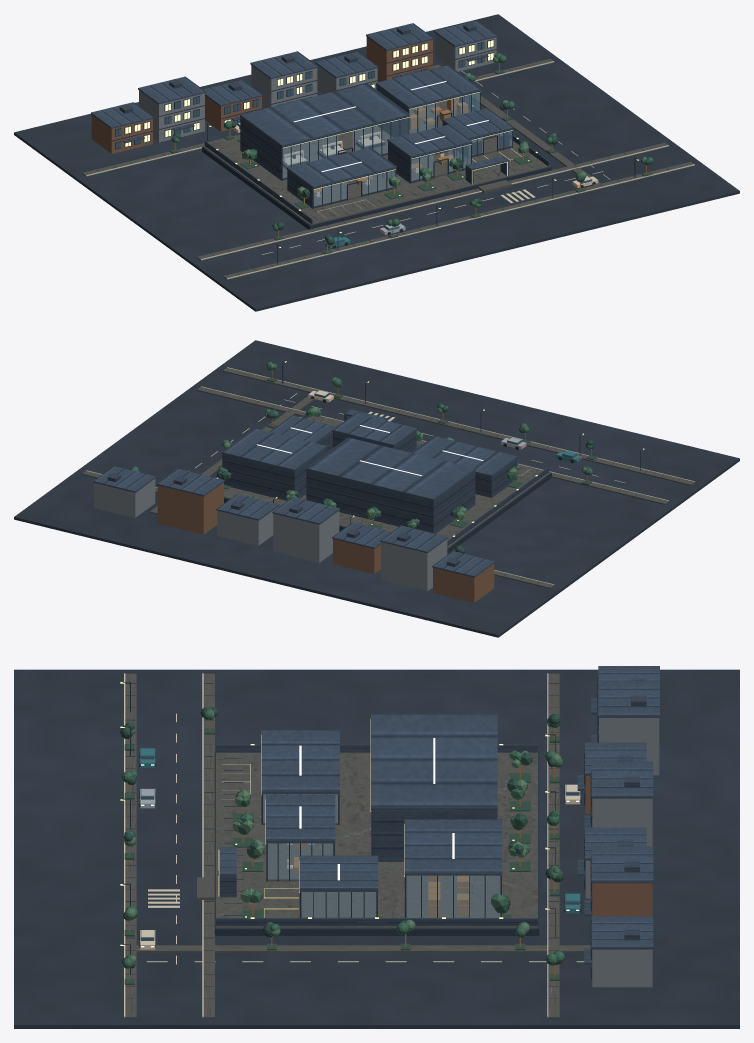
Rendered from oficina.glb.
The picture shows the model from 3 angles, top to bottom: view 1: azimuth 30°, elevation 25°; view 2: azimuth 150°, elevation 25°; view 3: azimuth 270°, elevation 25°; orthographic projection. The views are drawn at different scales.
Visible parts, largest first — view 1: Asfalto, Cobertura, Concreto, Alumínio grafite, Aço azul, Vidro fumê, Alvenaria cinza, Tijolo urbano, Superfície clara, Janelas acesas, Carvalho, Jardim (+5 smaller); view 2: Asfalto, Cobertura, Aço azul, Alvenaria cinza, Concreto, Tijolo urbano, Superfície clara, Alumínio grafite, Folhagem 1, Folhagem 0, Folhagem 2, Jardim; view 3: Asfalto, Cobertura, Concreto, Aço azul, Vidro fumê, Alvenaria cinza, Alumínio grafite, Superfície clara, Jardim, Tijolo urbano, Folhagem 1, Folhagem 0 (+2 smaller).
Part boxes in pixels (x1,y1,x2,y2): Asfalto: [14, 14, 739, 311]; Cobertura: [91, 20, 513, 188]; Concreto: [82, 59, 694, 279]; Alumínio grafite: [97, 39, 668, 274]; Aço azul: [119, 23, 549, 224]; Vidro fumê: [283, 92, 511, 206]; Alvenaria cinza: [139, 33, 496, 142]; Tijolo urbano: [91, 37, 432, 153]; Superfície clara: [86, 61, 694, 279]; Janelas acesas: [125, 40, 493, 146]; Carvalho: [174, 63, 646, 251]; Jardim: [169, 69, 651, 254]; Asfalto: [14, 340, 739, 637]; Cobertura: [93, 409, 517, 577]; Aço azul: [107, 413, 549, 566]; Alvenaria cinza: [94, 479, 447, 591]; Concreto: [82, 368, 694, 588]; Tijolo urbano: [157, 482, 494, 602]; Superfície clara: [86, 367, 694, 584]; Alumínio grafite: [155, 361, 680, 583]; Folhagem 1: [130, 361, 592, 552]; Folhagem 0: [216, 363, 594, 553]; Folhagem 2: [137, 363, 592, 527]; Jardim: [224, 377, 596, 528]; Asfalto: [14, 669, 739, 1028]; Cobertura: [219, 666, 659, 949]; Concreto: [124, 673, 590, 1018]; Aço azul: [216, 679, 646, 964]; Vidro fumê: [263, 794, 500, 917]; Alvenaria cinza: [585, 718, 659, 987]; Alumínio grafite: [122, 673, 599, 998]; Superfície clara: [124, 673, 584, 1017]; Jardim: [124, 728, 559, 984]; Tijolo urbano: [585, 776, 652, 916]; Folhagem 1: [121, 707, 564, 968]; Folhagem 0: [120, 707, 563, 968].
Bounding box in the file's own units: 88 × 7.97 × 76.
Materials: 23 (5 with a texture image).
